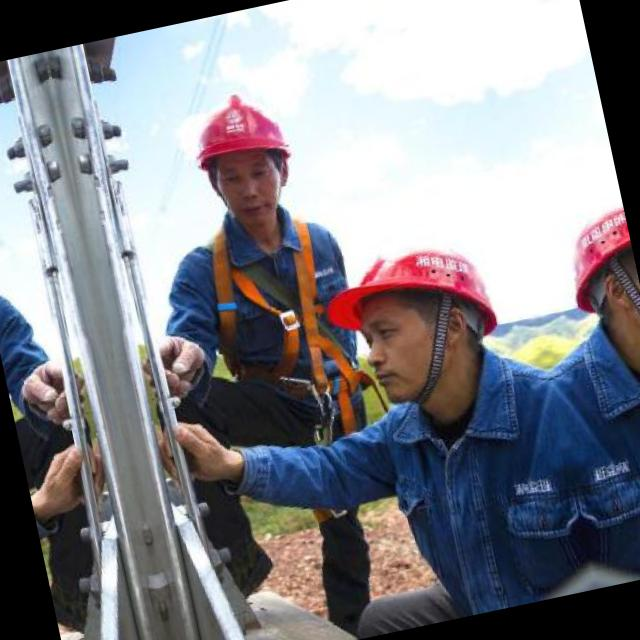helmet: (319, 205, 516, 419), (168, 74, 318, 254), (544, 175, 640, 372)
